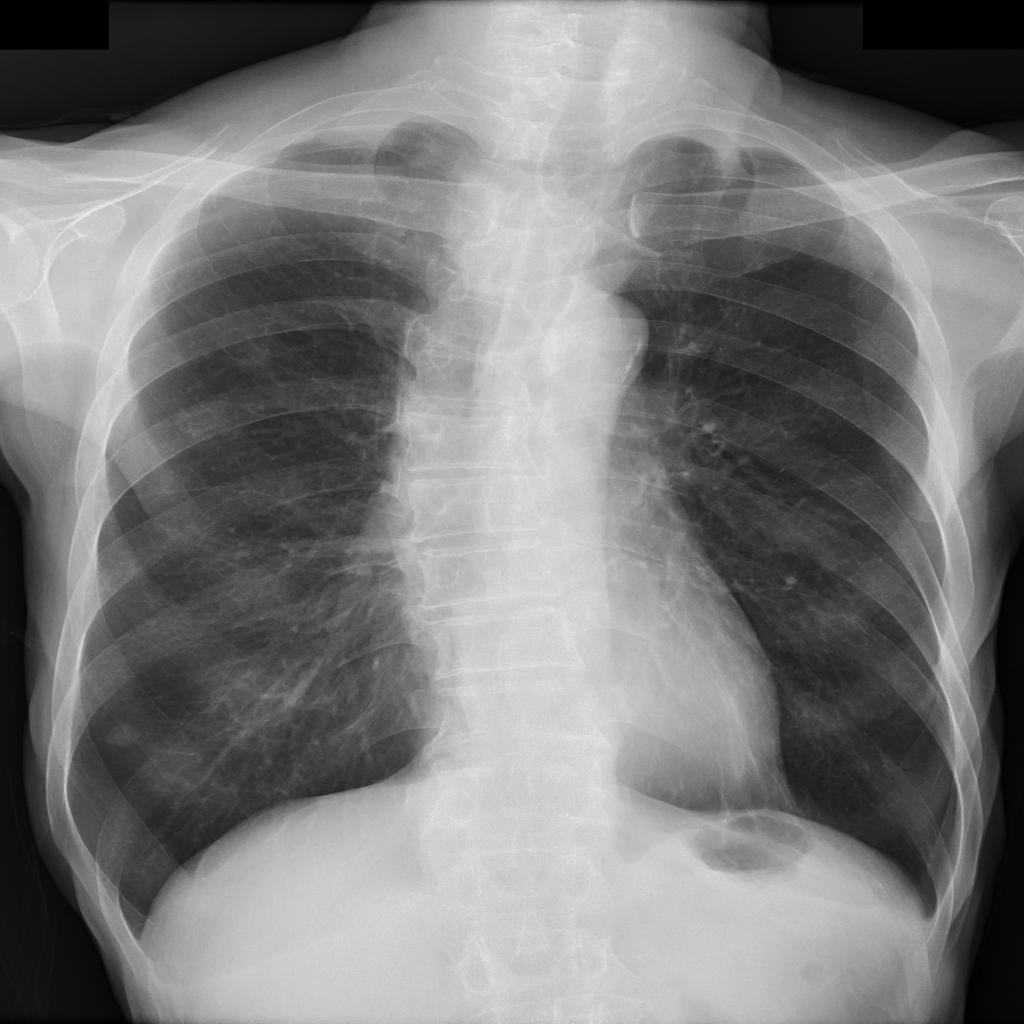Nodule: (104, 721, 142, 749)
